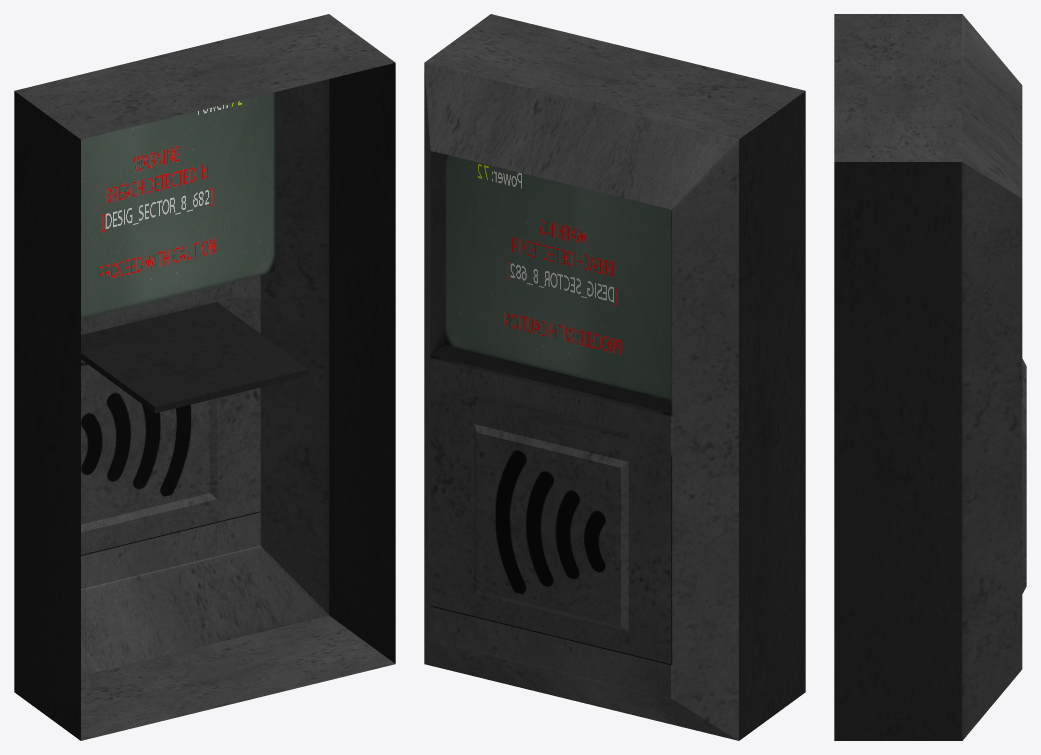
Rendered from ButtonKeycardContactless.x.dae.
The picture shows the model from 3 angles, left to right: view 1: azimuth 30°, elevation 25°; view 2: azimuth 150°, elevation 25°; view 3: azimuth 270°, elevation 25°; orthographic projection. The views are drawn at different scales.
Parts seen in each view (by area): view 1: ButtonKeycard.x_Scene_Root; view 2: ButtonKeycard.x_Scene_Root; view 3: ButtonKeycard.x_Scene_Root.
Boxes of the visible parts, left/top/right/bottom form: ButtonKeycard.x_Scene_Root: left=14, top=14, right=395, bottom=740; ButtonKeycard.x_Scene_Root: left=424, top=14, right=805, bottom=740; ButtonKeycard.x_Scene_Root: left=834, top=14, right=1026, bottom=740.
Bounding box in the file's own units: 2.77 × 1.52 × 5.05.
Materials: 2 (2 with a texture image).
